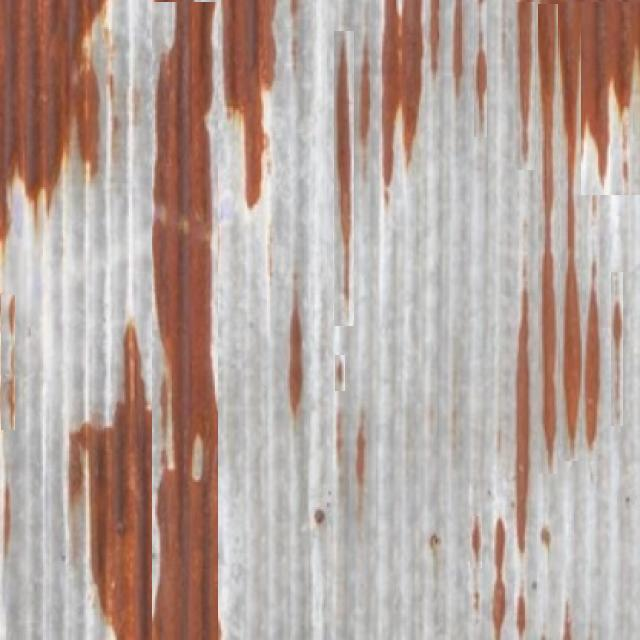Corrosion: (153, 0, 219, 640), (69, 325, 152, 640), (0, 0, 104, 240), (519, 0, 640, 196), (519, 190, 610, 446), (222, 0, 276, 206), (383, 0, 423, 186), (335, 30, 355, 326), (516, 289, 532, 554), (289, 295, 303, 416)
